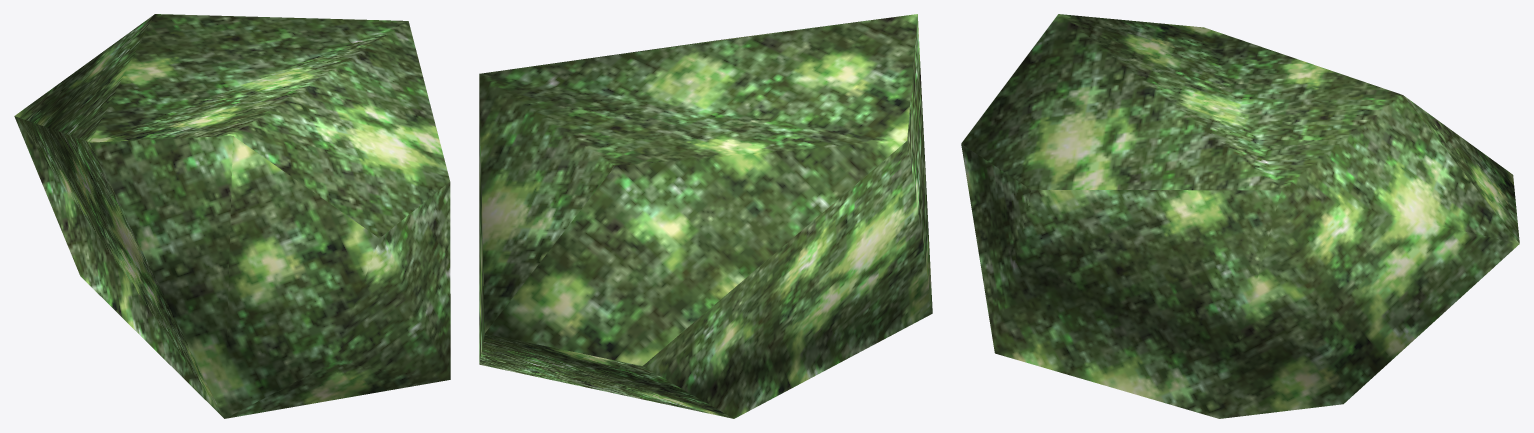
File: asteroid_acid_radial_s02_l3.fbx
3 views of the same model, side by side, from view 1: azimuth 30°, elevation 25°; view 2: azimuth 150°, elevation 25°; view 3: azimuth 270°, elevation 25° (orthographic). The views are drawn at different scales.
Parts seen in each view (by area): view 1: mesh_node; view 2: mesh_node; view 3: mesh_node.
Boxes of the visible parts, x1,y1,x2,y2 form: mesh_node: [14, 14, 450, 418]; mesh_node: [479, 14, 932, 418]; mesh_node: [961, 14, 1519, 418].
Size of the model in its own units: 4.61 by 3.65 by 6.5.
1 material, 1 textured.
